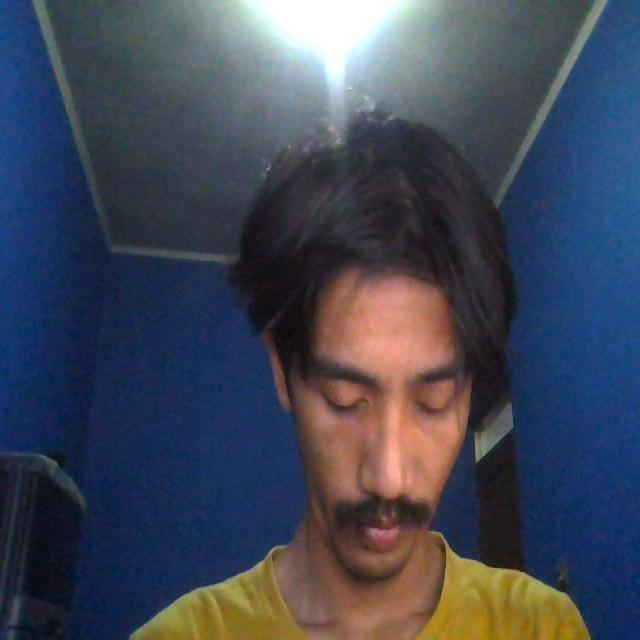Melihat Kebawah: (204, 87, 528, 595)
